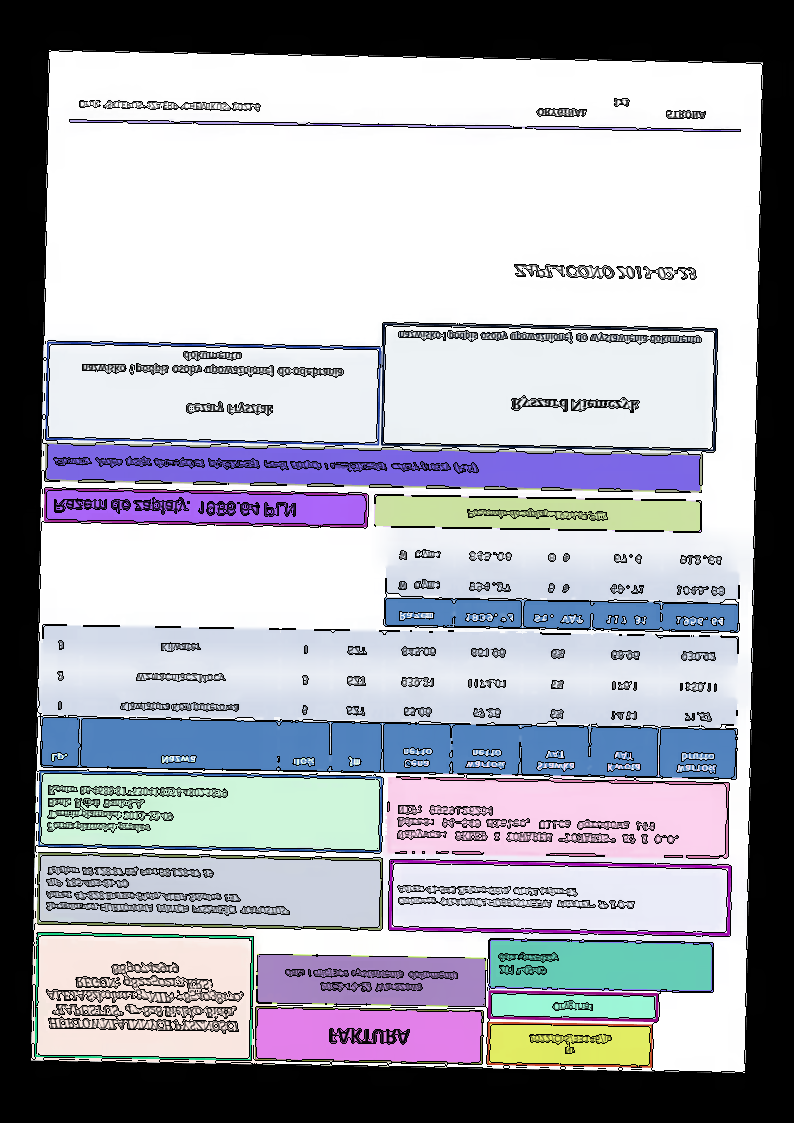Table: (39, 623, 740, 781), (383, 535, 742, 633)
TextBox: (43, 958, 247, 1035), (43, 863, 293, 917), (395, 803, 683, 847), (52, 453, 480, 476), (46, 784, 230, 837), (78, 349, 346, 380), (395, 883, 637, 914), (396, 327, 703, 348), (51, 494, 297, 520), (284, 966, 460, 995), (533, 94, 708, 122), (512, 262, 698, 283), (77, 97, 262, 113), (510, 396, 640, 416), (464, 507, 611, 523), (527, 1030, 614, 1057), (326, 1025, 411, 1047), (496, 951, 559, 978), (185, 401, 275, 418), (551, 999, 595, 1015)
